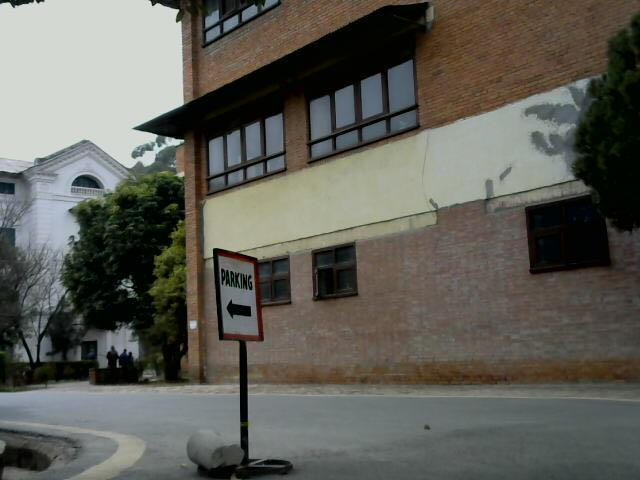Building: (173, 0, 634, 389)
Road: (14, 391, 640, 480)
Traffic sign: (194, 246, 302, 480)
Tree: (72, 181, 194, 369), (0, 200, 63, 381)
